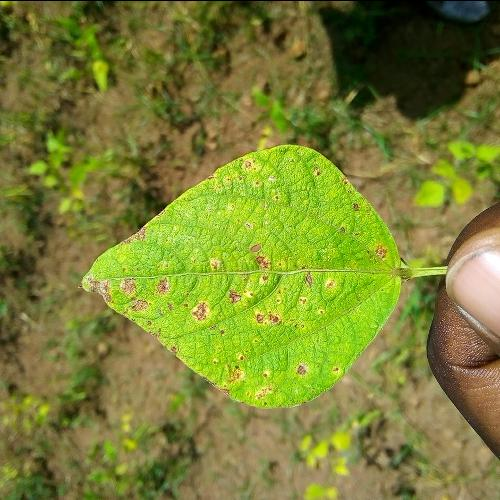hawar: (227, 224, 279, 313), (117, 259, 175, 310), (214, 344, 261, 396), (296, 257, 332, 321), (84, 257, 118, 308), (120, 218, 164, 249), (188, 288, 218, 330), (252, 308, 286, 334), (368, 234, 396, 265), (292, 360, 318, 384)
mozaik: (206, 144, 294, 204)
